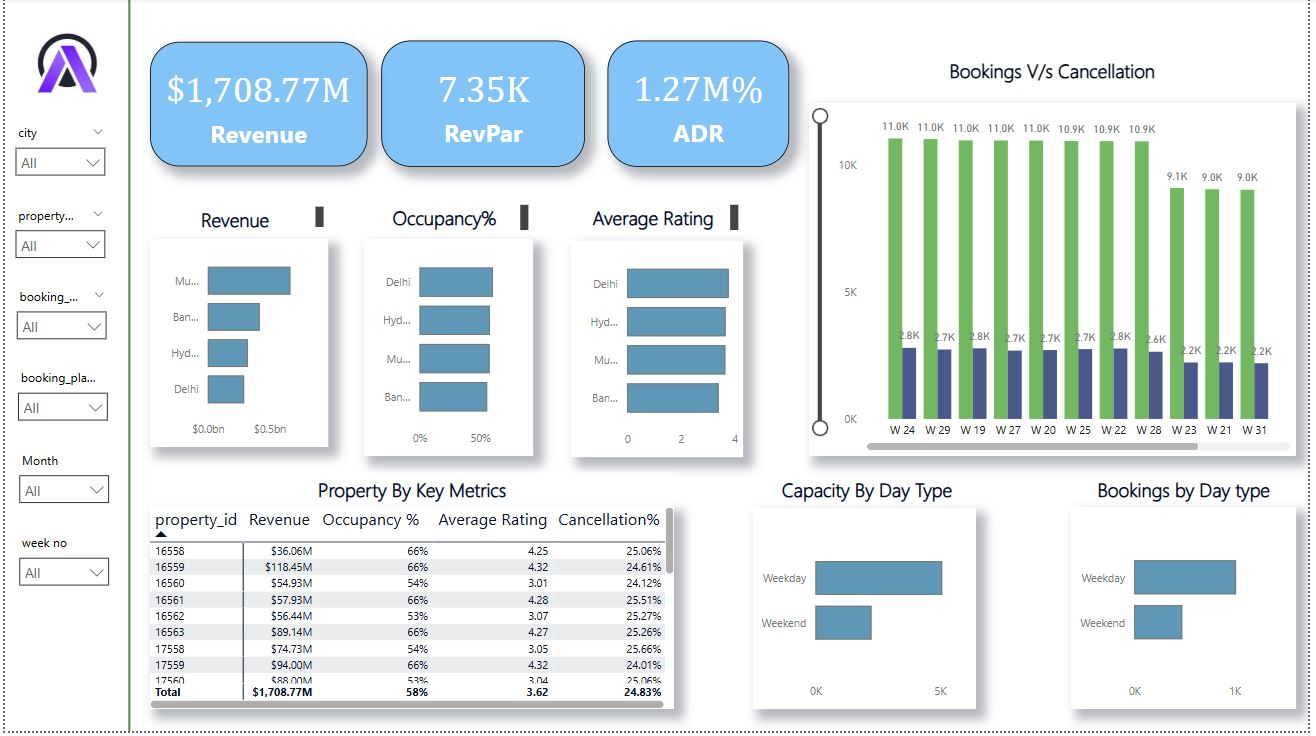

The dashboard page shown, as its layout file describes it:
{"tool":"powerbi","page":{"name":"Page 1","canvas":[1280,720],"ordinal":1},"visuals":[{"type":"card","fields":{"Values":["_measures.Revenue"]},"box":[142.5,42.5,213.8,122.5],"z":0},{"type":"card","fields":{"Values":["_measures.RevPar"]},"box":[368.8,41.2,200,123.8],"z":1000},{"type":"card","fields":{"Values":["_measures.ADR"]},"box":[591.2,41.2,178.8,123.8],"z":2000},{"type":"clusteredColumnChart","fields":{"Category":["dim_date.week no"],"Y":["_measures.Total Bookings","_measures.Total Cancelled Bookings"]},"box":[789,103.7,478,346.3],"z":3000},{"type":"barChart","fields":{"Y":["_measures.Revenue"],"Category":["dim_hotels.city"]},"box":[142.5,236.2,175,203.8],"z":4000},{"type":"barChart","fields":{"Y":["_measures.Occupancy %"],"Category":["dim_hotels.city"]},"box":[352.5,236.2,166.2,212.5],"z":5000},{"type":"barChart","fields":{"Y":["_measures.Average Rating"],"Category":["dim_hotels.city"]},"box":[556.2,237.5,168.8,212.5],"z":6000},{"type":"pivotTable","fields":{"Rows":["dim_hotels.property_id"],"Values":["_measures.Revenue","_measures.Occupancy %","_measures.Average Rating","_measures.Cancellation%"]},"box":[142.7,500,514.6,198.8],"z":7000},{"type":"shape","box":[56.2,0,131.2,720],"z":8000},{"type":"slicer","fields":{"Values":["dim_hotels.city"]},"box":[0,118.8,108.8,71.2],"z":9000},{"type":"slicer","fields":{"Values":["dim_hotels.property_name"]},"box":[0,200,108.8,71.2],"z":10000},{"type":"slicer","fields":{"Values":["fact_bookings.booking_status"]},"box":[1.2,280,108.8,71.2],"z":11000},{"type":"slicer","fields":{"Values":["fact_bookings.booking_platform"]},"box":[2.5,360,108.8,71.2],"z":12000},{"type":"slicer","fields":{"Values":["dim_date.date.Variation.Date Hierarchy.Month"]},"box":[3.8,440,108.8,71.2],"z":13000},{"type":"slicer","fields":{"Values":["dim_date.week no"]},"box":[3.8,521.2,108.8,71.2],"z":14000},{"type":"barChart","fields":{"Y":["_measures.RevPar"],"Category":["dim_date.day type"]},"box":[734.1,501.2,219.5,197.6],"z":15000},{"type":"barChart","fields":{"Y":["_measures.DBRN"],"Category":["dim_date.day type"]},"box":[1046.3,500,220.7,198.8],"z":16000},{"type":"textbox","box":[100,368.8,236.2,62.5],"z":17000},{"type":"textbox","box":[352.5,190,166.2,42.5],"z":18000},{"type":"textbox","box":[142.5,200,175,32.5],"z":19000},{"type":"textbox","box":[556.2,190,168.8,42.5],"z":20000},{"type":"textbox","box":[701.2,546.2,566.2,86.2],"z":21000},{"type":"textbox","box":[734.1,464.6,219.5,35.4],"z":22000},{"type":"textbox","box":[1046.3,464.6,220.7,35.4],"z":23000},{"type":"textbox","box":[142.7,464.6,514.6,35.4],"z":24000},{"type":"textbox","box":[789,53.7,478,36.6],"z":25000},{"type":"image","box":[0,9.8,122,108.5],"z":26000}]}

Visuals, with their boxes in screenshot pixels (x1, y1, x2, y2), scaled from the page's 1280x720 canvas onto the 1316x736 screenshot:
card - _measures.Revenue: (x1=147, y1=43, x2=366, y2=169)
card - _measures.RevPar: (x1=379, y1=42, x2=585, y2=169)
card - _measures.ADR: (x1=608, y1=42, x2=792, y2=169)
clusteredColumnChart - dim_date.week no x _measures.Total Bookings: (x1=811, y1=106, x2=1303, y2=460)
barChart - _measures.Revenue x dim_hotels.city: (x1=147, y1=241, x2=326, y2=450)
barChart - _measures.Occupancy % x dim_hotels.city: (x1=362, y1=241, x2=533, y2=459)
barChart - _measures.Average Rating x dim_hotels.city: (x1=572, y1=243, x2=745, y2=460)
pivotTable - dim_hotels.property_id x _measures.Revenue: (x1=147, y1=511, x2=676, y2=714)
shape: (x1=58, y1=0, x2=193, y2=735)
slicer - dim_hotels.city: (x1=0, y1=121, x2=112, y2=194)
slicer - dim_hotels.property_name: (x1=0, y1=204, x2=112, y2=277)
slicer - fact_bookings.booking_status: (x1=1, y1=286, x2=113, y2=359)
slicer - fact_bookings.booking_platform: (x1=3, y1=368, x2=114, y2=441)
slicer - dim_date.date.Variation.Date Hierarchy.Month: (x1=4, y1=450, x2=116, y2=523)
slicer - dim_date.week no: (x1=4, y1=533, x2=116, y2=606)
barChart - _measures.RevPar x dim_date.day type: (x1=755, y1=512, x2=980, y2=714)
barChart - _measures.DBRN x dim_date.day type: (x1=1076, y1=511, x2=1303, y2=714)
textbox: (x1=103, y1=377, x2=346, y2=441)
textbox: (x1=362, y1=194, x2=533, y2=238)
textbox: (x1=147, y1=204, x2=326, y2=238)
textbox: (x1=572, y1=194, x2=745, y2=238)
textbox: (x1=721, y1=558, x2=1303, y2=646)
textbox: (x1=755, y1=475, x2=980, y2=511)
textbox: (x1=1076, y1=475, x2=1303, y2=511)
textbox: (x1=147, y1=475, x2=676, y2=511)
textbox: (x1=811, y1=55, x2=1303, y2=92)
image: (x1=0, y1=10, x2=125, y2=121)
